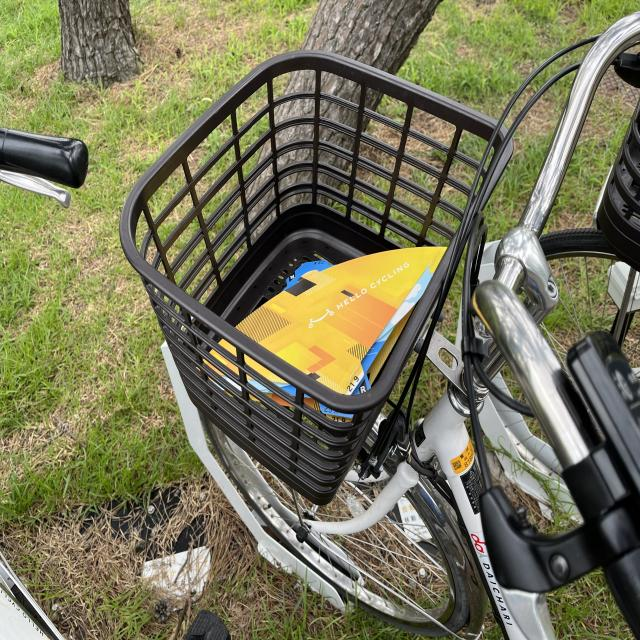basket: (118, 43, 520, 508)
